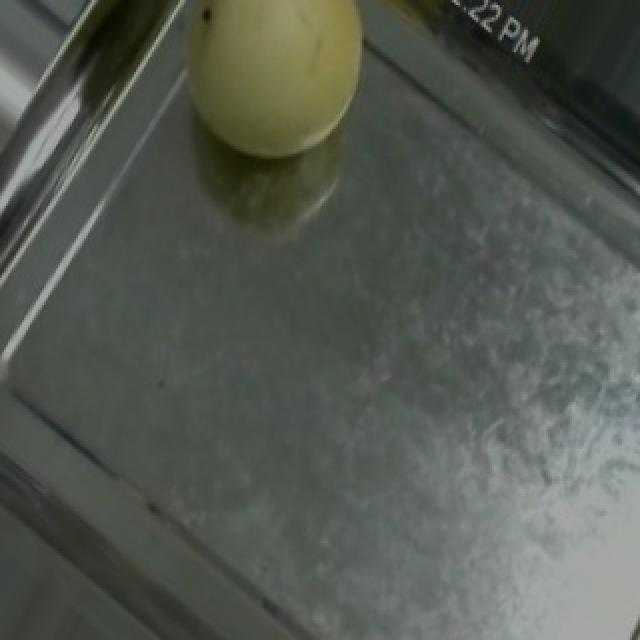Fruit: (140, 0, 406, 196)
